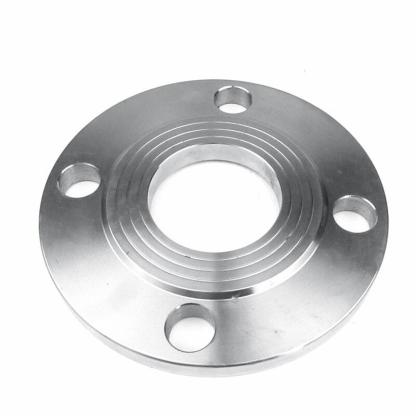FOD: (32, 75, 392, 378)
